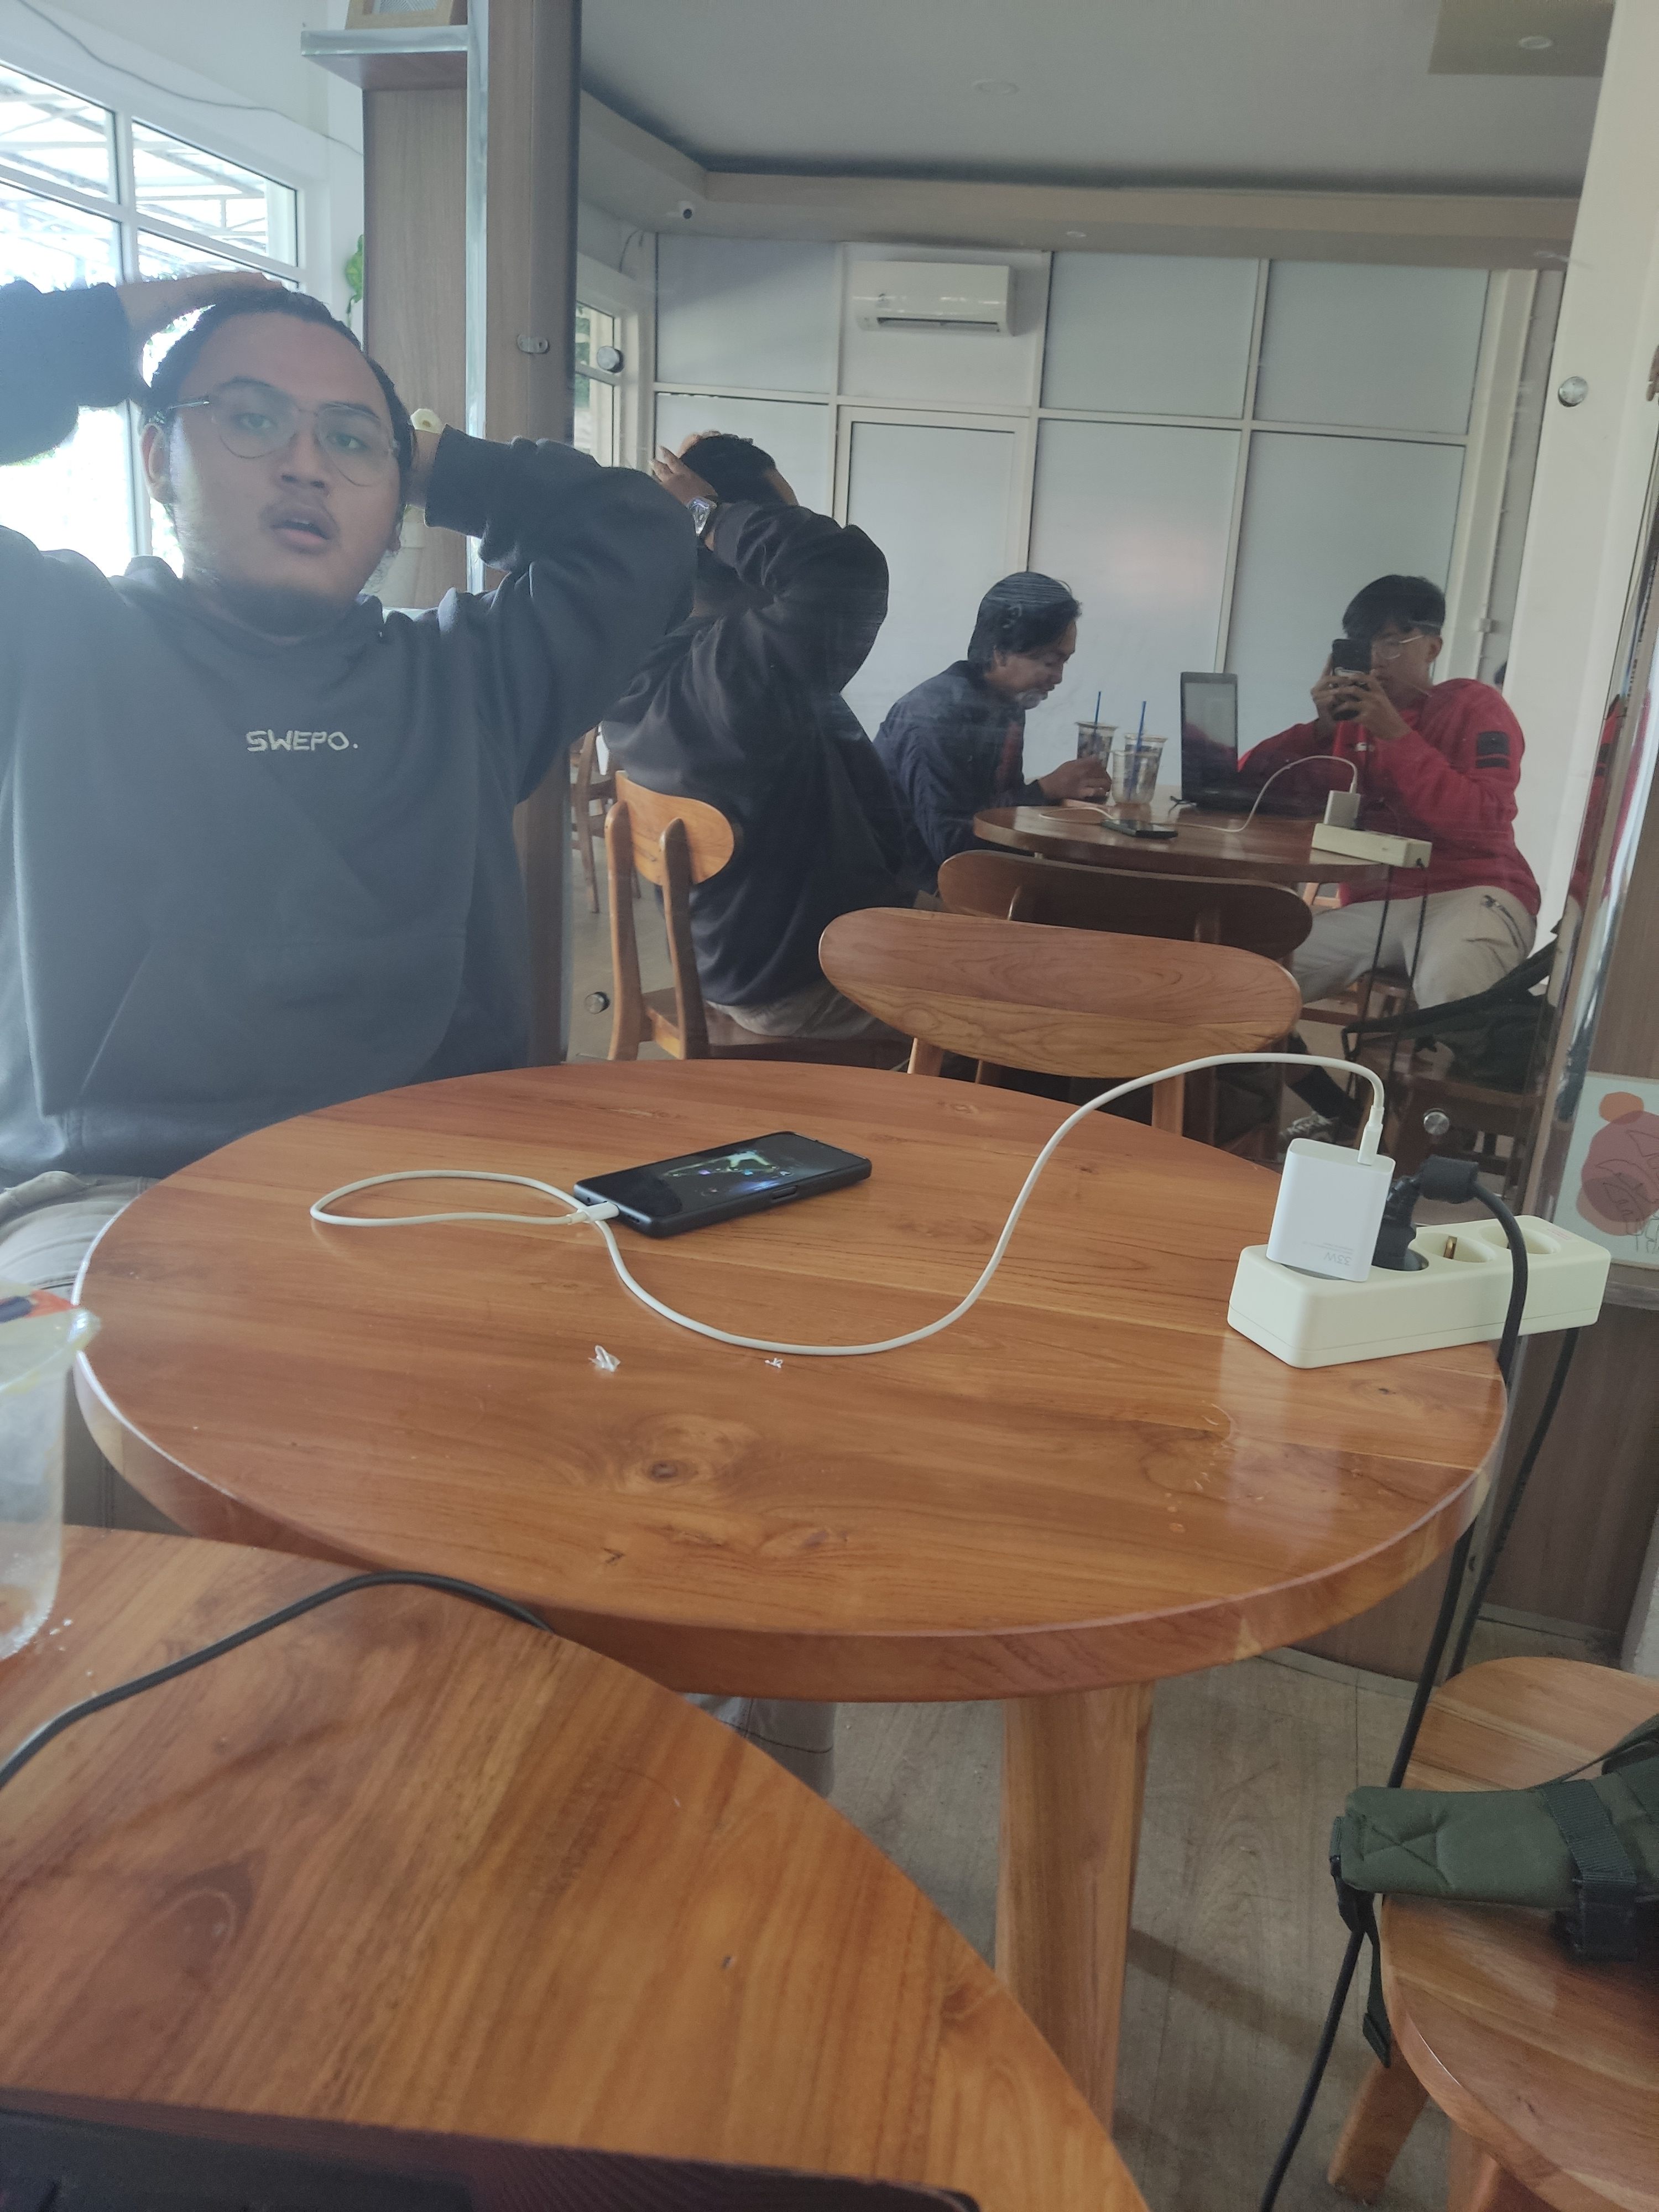Gelas CW: (0, 1296, 75, 1625)
